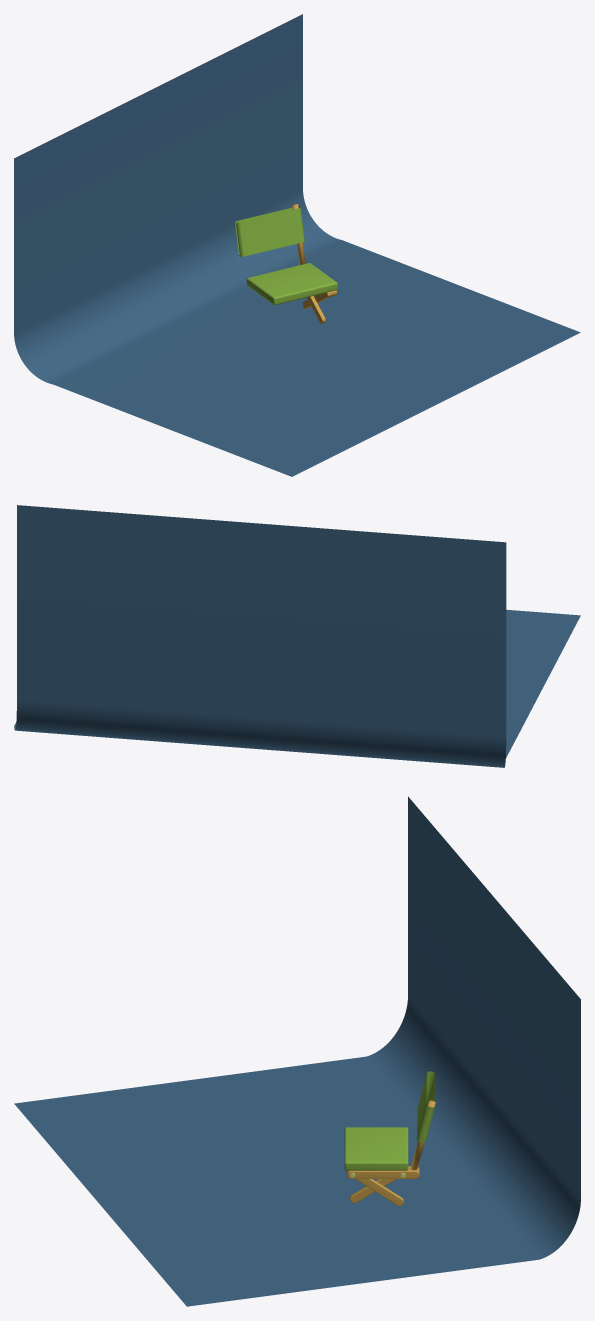
File: 无标题.gltf
The picture shows the model from 3 angles, top to bottom: view 1: azimuth 30°, elevation 25°; view 2: azimuth 150°, elevation 25°; view 3: azimuth 270°, elevation 25°; orthographic projection. The views are drawn at different scales.
Parts seen in each view (by area): view 1: 立方体.006, 立方体.005, 立方体; view 2: 立方体.006; view 3: 立方体.006, 立方体, 立方体.005.
Part boxes in pixels (left/top/right/bottom): 立方体.006: left=14, top=14, right=580, bottom=476; 立方体.005: left=235, top=206, right=304, bottom=256; 立方体: left=246, top=263, right=337, bottom=305; 立方体.006: left=14, top=505, right=580, bottom=767; 立方体.006: left=14, top=796, right=580, bottom=1306; 立方体: left=344, top=1127, right=408, bottom=1170; 立方体.005: left=416, top=1071, right=435, bottom=1142.
Size of the model in its own units: 14.61 by 6.47 by 13.37.
